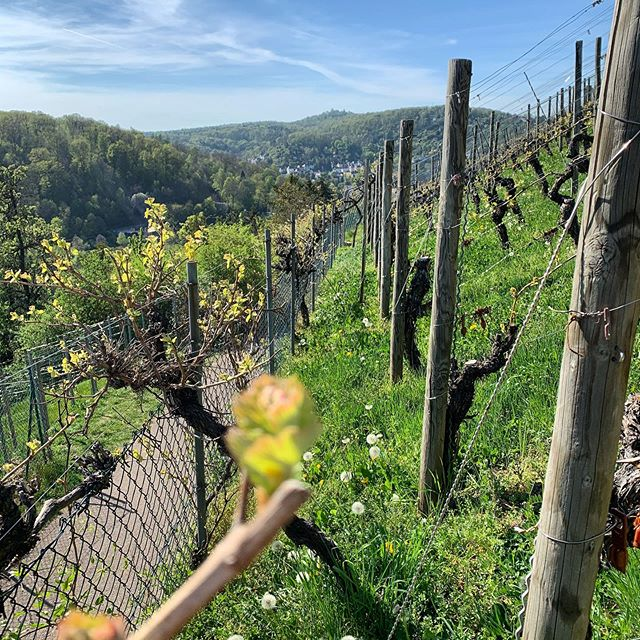sky: (1, 1, 640, 112)
vegetation: (1, 100, 519, 239)
